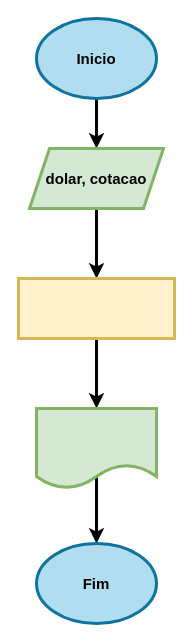
The diagram is 193 pixels wide and 642 high, and some of its shapes have lost their labels. The centre of each missing label's shape, as x and y in pixels:
reais: pixel 96 448
reais= cotacao*dolar: pixel 96 308
